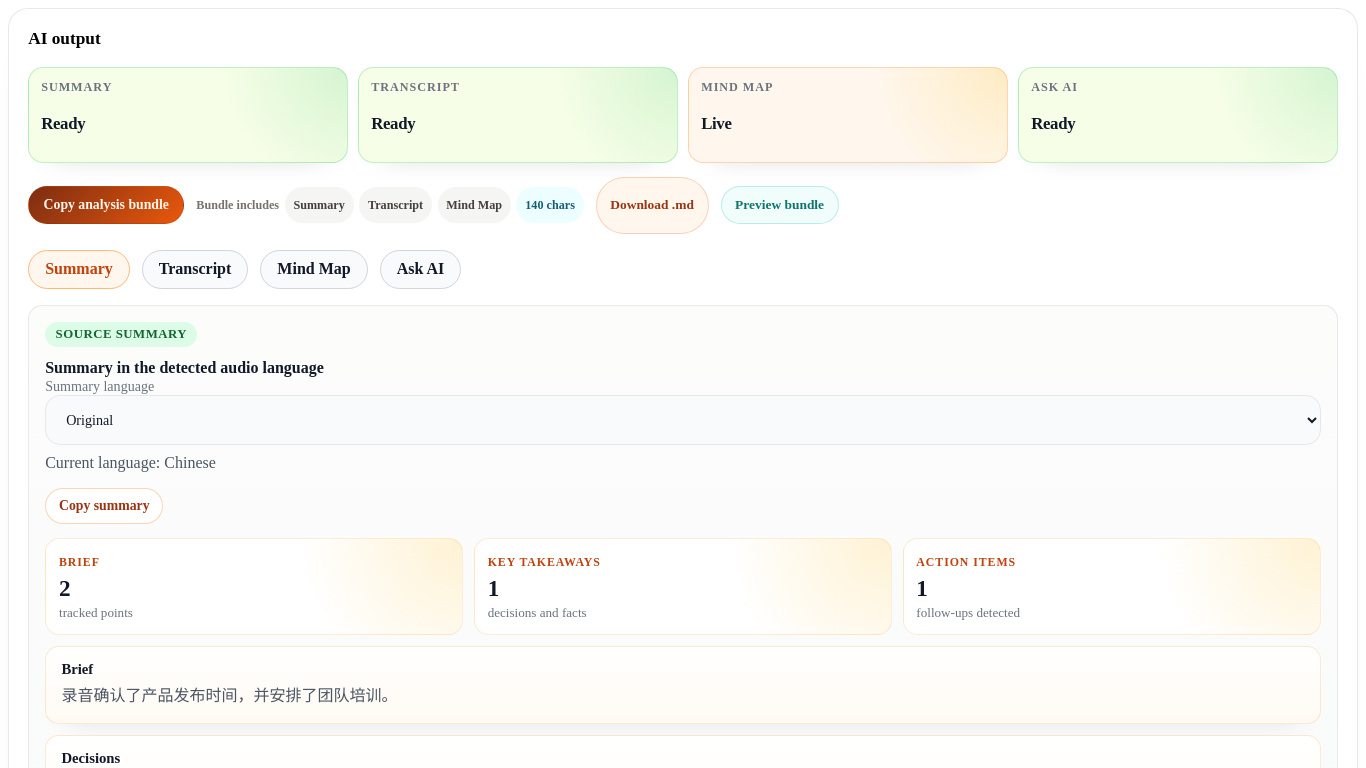
Test: copies the available AI analysis bundle
Click the button "Copy analysis bundle" at (106, 205), box [28,186,184,224]
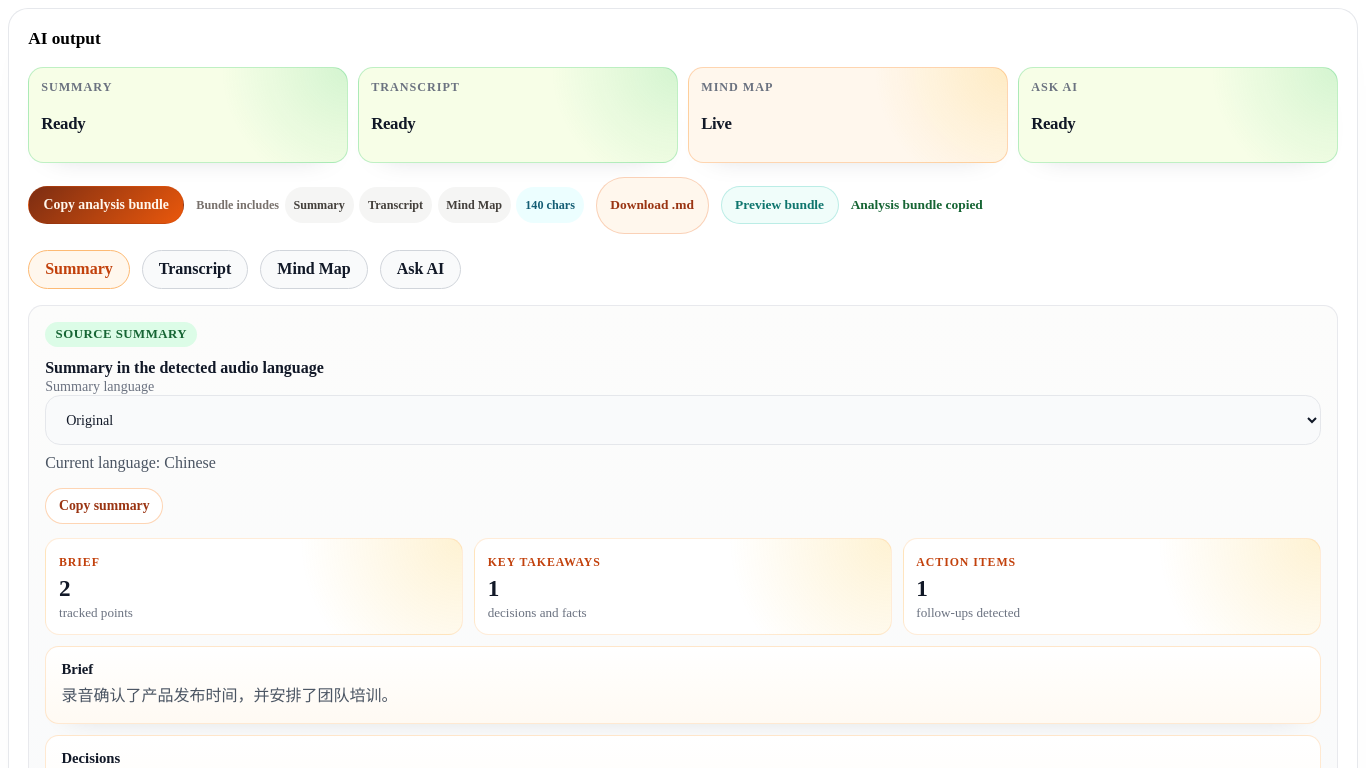
expect the message reads "Analysis bundle copied": met, box [851,197,983,212]
